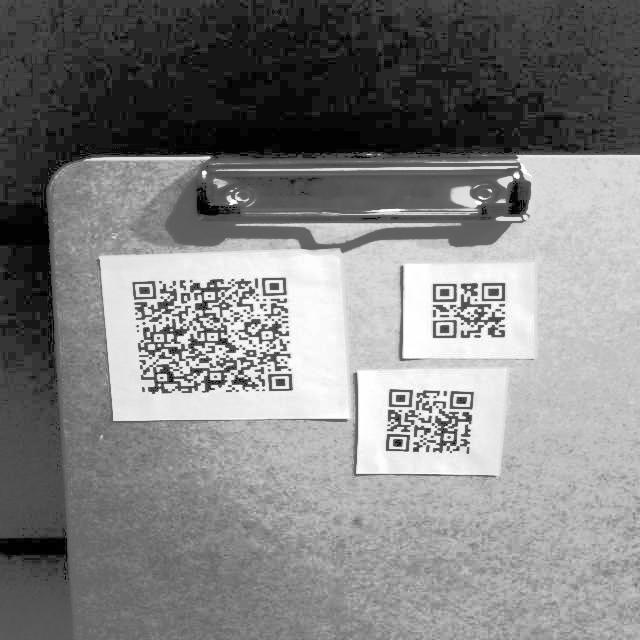qr_code: (120, 263, 301, 403), (375, 379, 482, 464), (419, 270, 523, 347)
